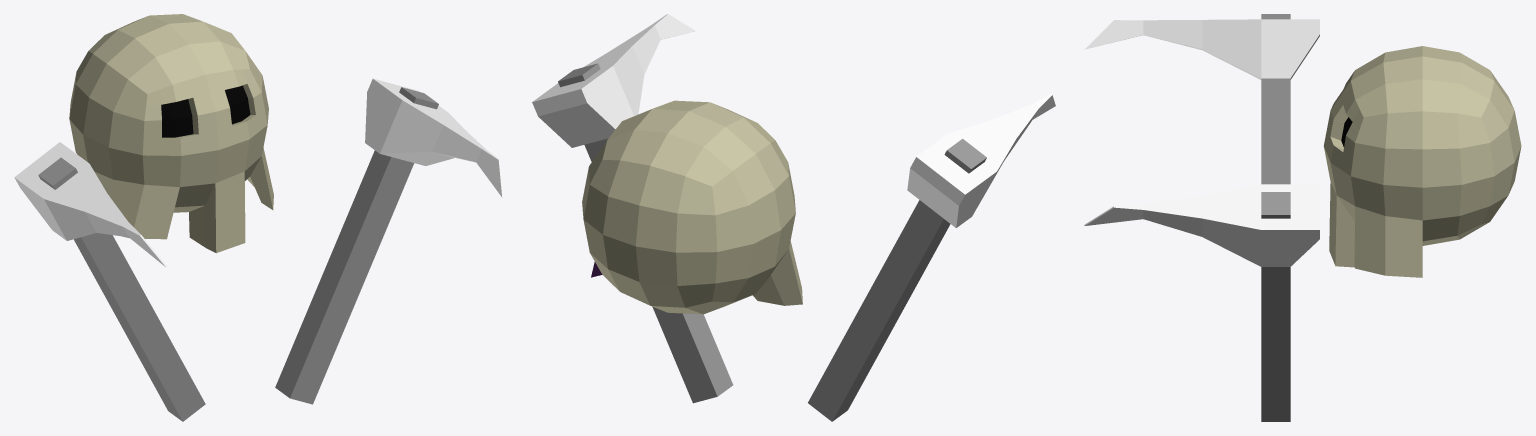
Rendered from Grimmly.fbx.
The picture shows the model from 3 angles, left to right: view 1: azimuth 30°, elevation 25°; view 2: azimuth 150°, elevation 25°; view 3: azimuth 270°, elevation 25°; orthographic projection. The views are drawn at different scales.
Visible parts, largest first — view 1: Grid, Cube.002, Cube.001; view 2: Grid, Cube.001, Cube.002; view 3: Grid, Cube.002, Cube.001.
Boxes of the visible parts, <box> form: Grid: <box>69,14,273,253</box>; Cube.002: <box>275,78,503,404</box>; Cube.001: <box>14,142,205,421</box>; Grid: <box>582,100,802,314</box>; Cube.001: <box>808,94,1055,421</box>; Cube.002: <box>532,14,733,403</box>; Grid: <box>1323,46,1521,277</box>; Cube.002: <box>1084,184,1319,421</box>; Cube.001: <box>1085,14,1319,184</box>.
Size of the model in its own units: 395 by 314 by 371.
